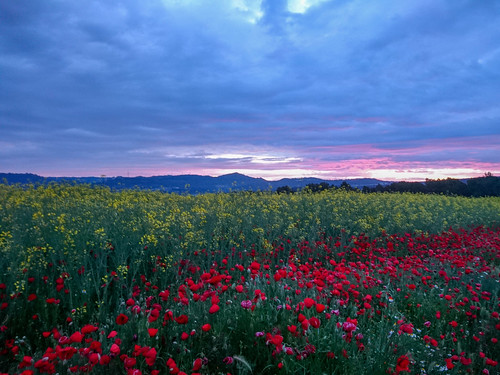flowers: (1, 181, 500, 375)
sky: (1, 1, 500, 179)
